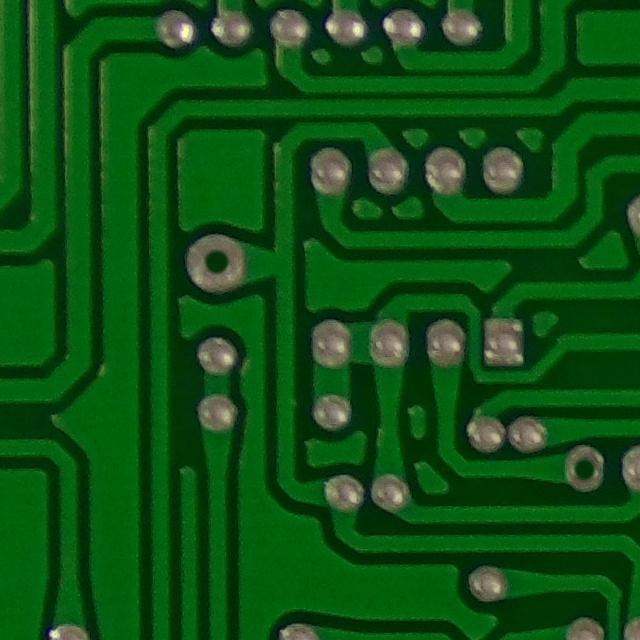missing_hole: (170, 228, 259, 301), (553, 436, 615, 504)
